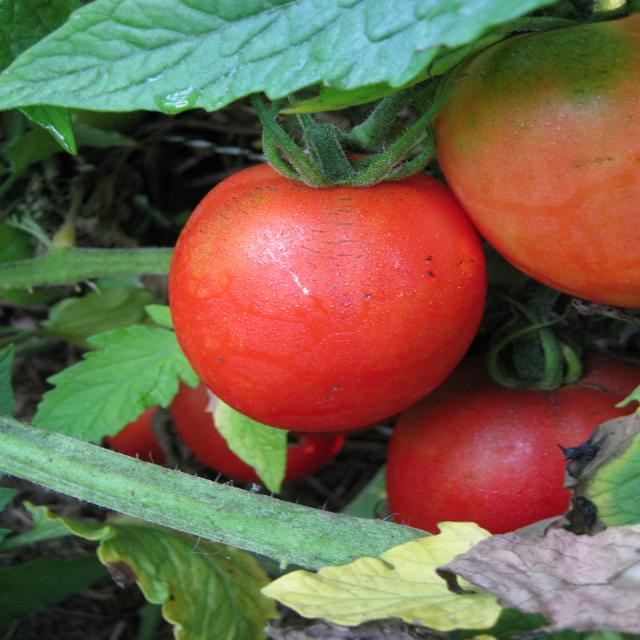Tomato: (168, 164, 487, 432), (433, 15, 640, 308), (387, 358, 638, 534)
